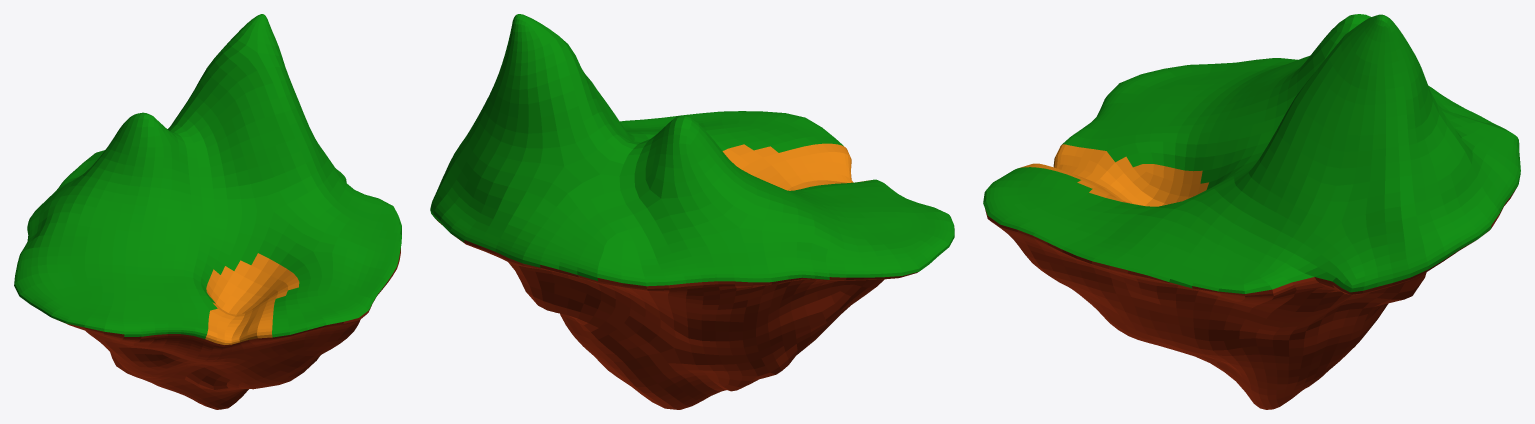
The model's file is island_test_1-3.FBX.
3 views of the same model, side by side, from view 1: azimuth 30°, elevation 25°; view 2: azimuth 150°, elevation 25°; view 3: azimuth 270°, elevation 25° (orthographic). The views are drawn at different scales.
Parts seen in each view (by area): view 1: Group1; view 2: Group1; view 3: Group1.
Part boxes in pixels (left/top/right/bottom): Group1: left=14, top=14, right=401, bottom=409; Group1: left=430, top=14, right=954, bottom=409; Group1: left=983, top=14, right=1520, bottom=409.
Bounding box in the file's own units: 513760 × 499170 × 455555.
